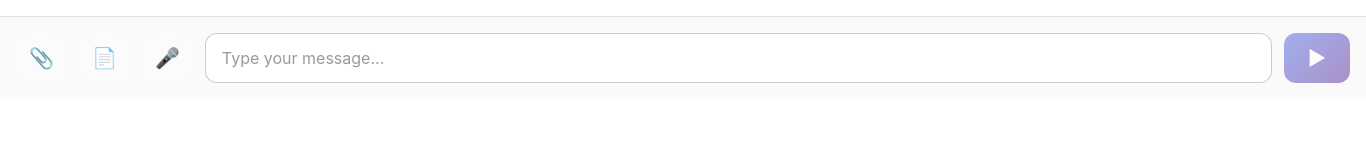
it: MessageInput › Disabled State › should enable send button when textarea has content
Expected: the button named "Send message" is disabled, x1=1284 y1=32 x2=1350 y2=82
Type "Test" into the text box with placeholder "Type your message...".
click(738, 58); type("Test")  # box x1=205 y1=32 x2=1272 y2=82
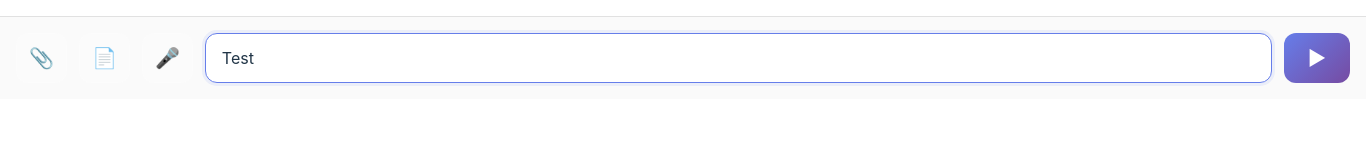
Expected: the button named "Send message" is enabled, x1=1284 y1=32 x2=1350 y2=82
